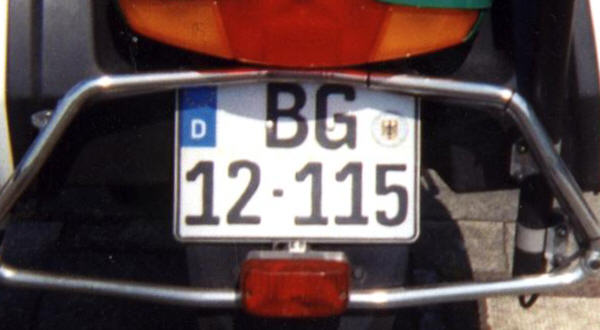license_plate: (174, 81, 420, 240)
